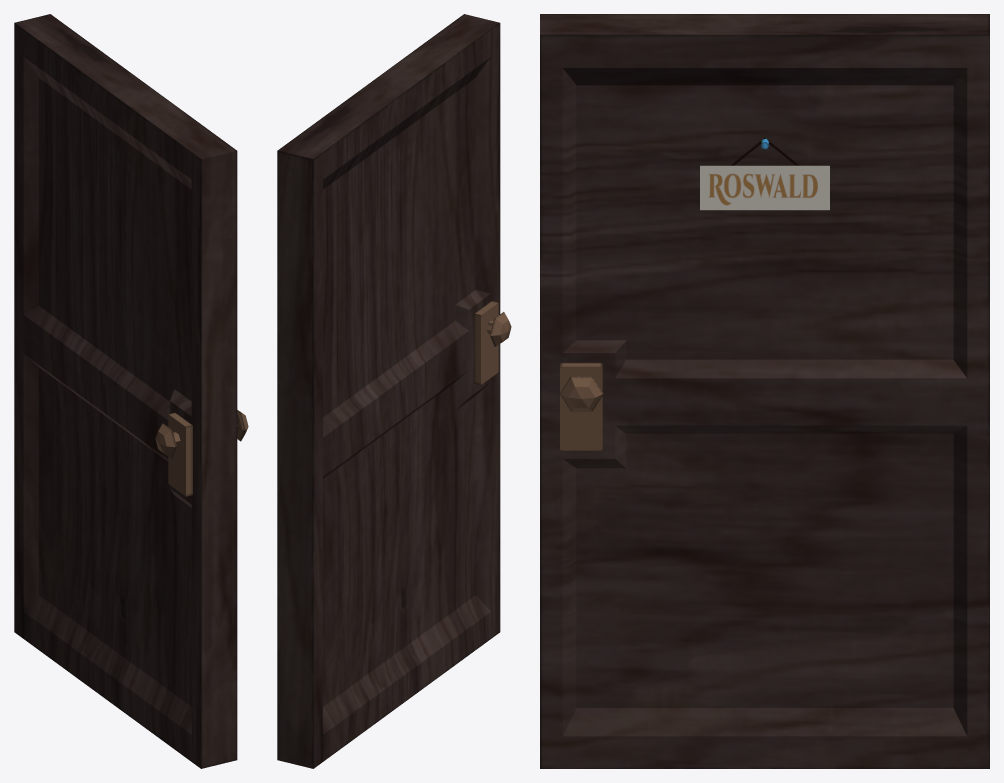
File: door_roswald.fbx
3 renders of one model, left to right at view 1: azimuth 30°, elevation 25°; view 2: azimuth 150°, elevation 25°; view 3: azimuth 270°, elevation 25°, orthographic. The views are drawn at different scales.
Parts seen in each view (by area): view 1: door_roswald.001; view 2: door_roswald.001; view 3: door_roswald.001.
Boxes of the visible parts, box(x1,y1,x2,y2) form: door_roswald.001: box(14, 14, 248, 768); door_roswald.001: box(277, 14, 511, 768); door_roswald.001: box(540, 14, 989, 768).
Bounding box in the file's own units: 26.35 × 177 × 98.15.
